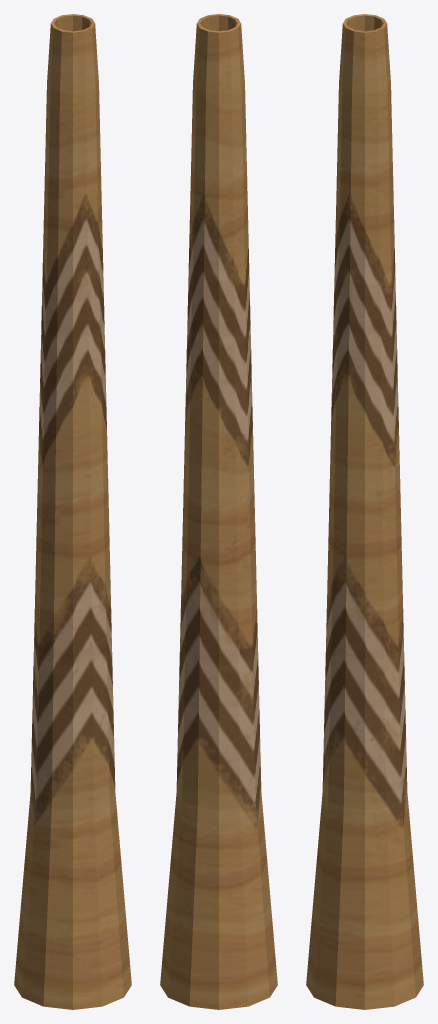
File: Digeridoo.fbx
The picture shows the model from 3 angles, left to right: view 1: azimuth 30°, elevation 25°; view 2: azimuth 150°, elevation 25°; view 3: azimuth 330°, elevation 25°; orthographic projection.
Visible parts, largest first — view 1: pCylinder1; view 2: pCylinder1; view 3: pCylinder1.
Part boxes in pixels (box(x1,y1,x2,y2)): pCylinder1: box(14, 14, 131, 1009); pCylinder1: box(160, 14, 277, 1009); pCylinder1: box(306, 14, 423, 1009).
Bounding box in the file's own units: 0.6636 × 5.99 × 0.6636.
1 material, 1 textured.
